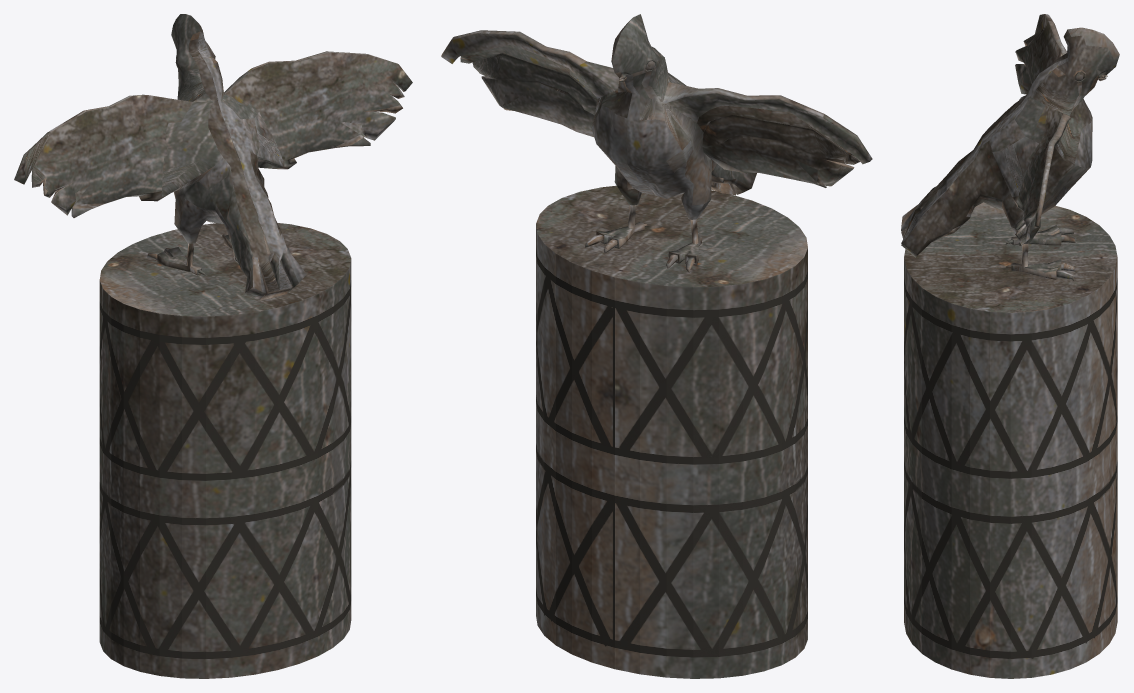
Rendered from Totem-Birdorange.fbx.
3 views of the same model, side by side, from view 1: azimuth 30°, elevation 25°; view 2: azimuth 150°, elevation 25°; view 3: azimuth 270°, elevation 25° (orthographic). The views are drawn at different scales.
Visible parts, largest first — view 1: Totem Base.006; view 2: Totem Base.006; view 3: Totem Base.006.
Part boxes in pixels (left/top/right/bottom): Totem Base.006: left=14, top=14, right=412, bottom=678; Totem Base.006: left=441, top=14, right=872, bottom=678; Totem Base.006: left=901, top=14, right=1119, bottom=678.
Size of the model in its own units: 3.48 by 4.93 by 1.64.
1 material, 1 textured.
